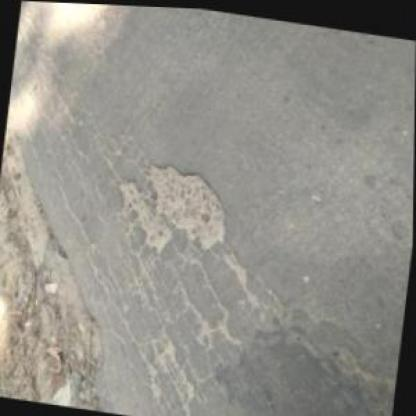pothole: (110, 150, 234, 262)
